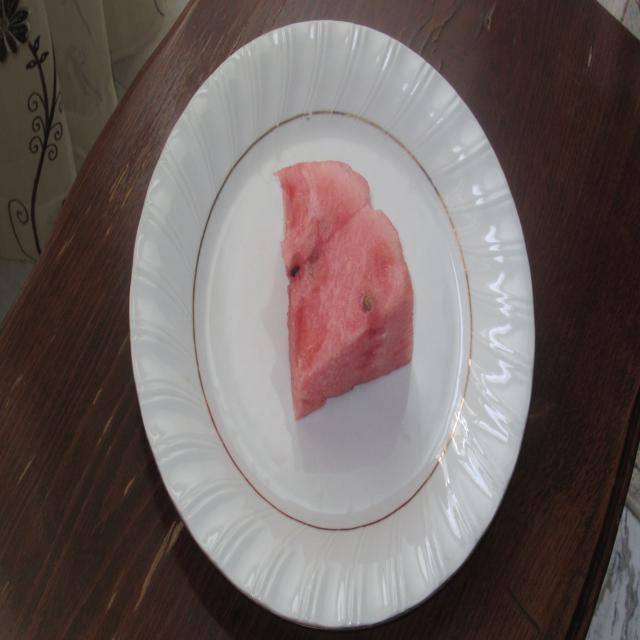Watermelon: (276, 158, 424, 426)
